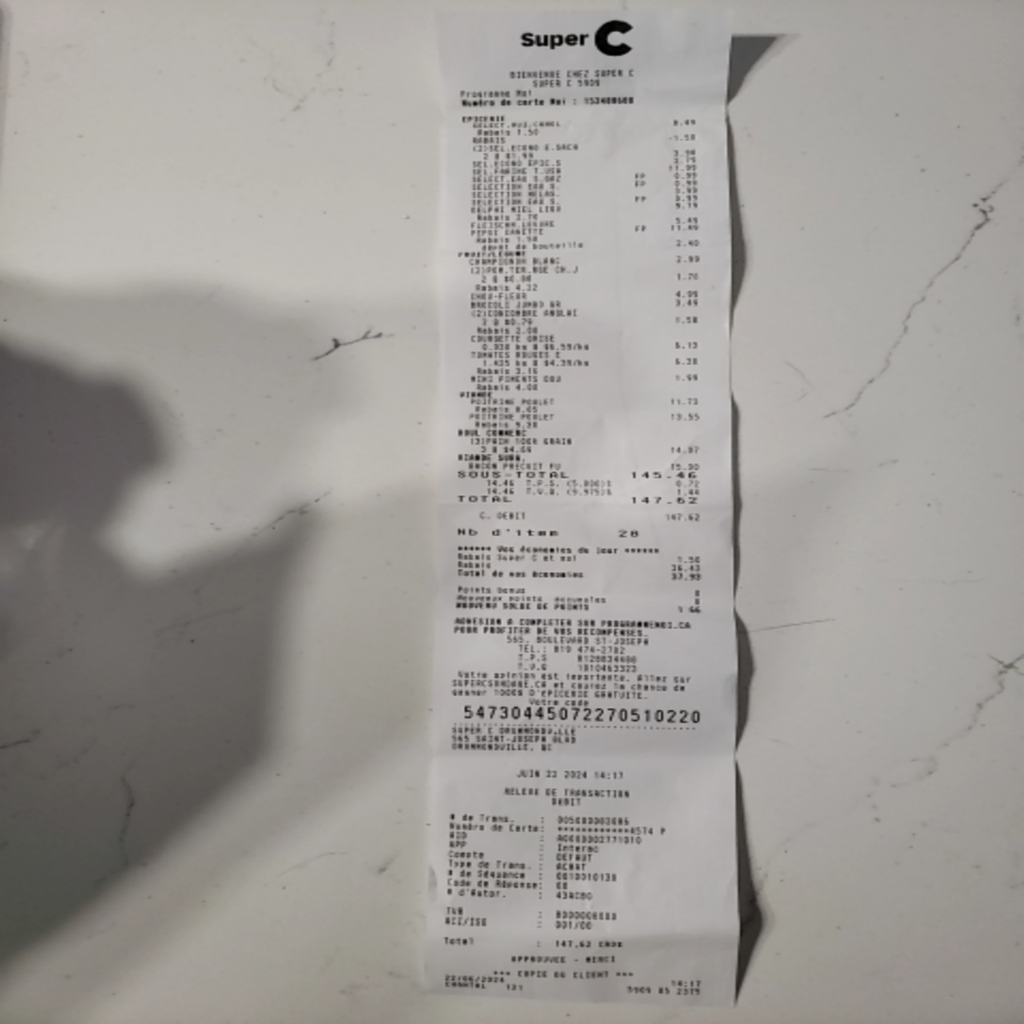recipt: (424, 0, 736, 1003)
